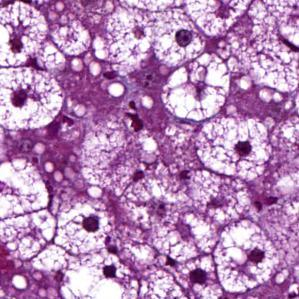ballooning: (197, 111, 273, 183), (212, 218, 281, 295), (163, 52, 231, 125), (3, 67, 65, 130), (54, 193, 111, 258), (4, 3, 49, 70)
